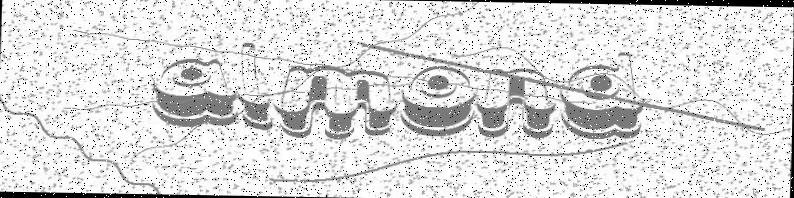a: (151, 57, 238, 128)
d: (557, 50, 645, 140)
l: (234, 40, 277, 131)
m: (272, 62, 396, 141)
n: (475, 67, 558, 139)
o: (399, 64, 478, 138)
